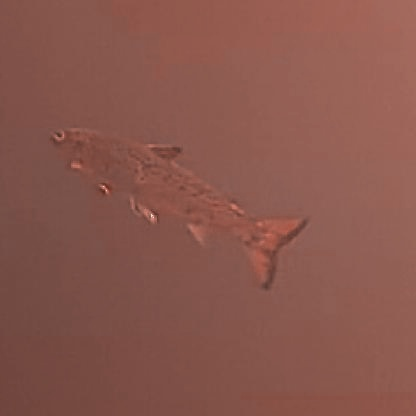salmon: (38, 119, 310, 289)
